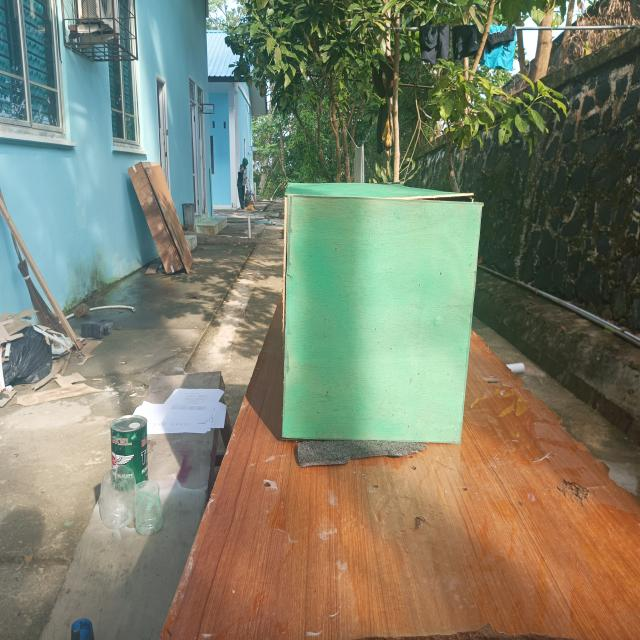green_box: (269, 144, 494, 461)
